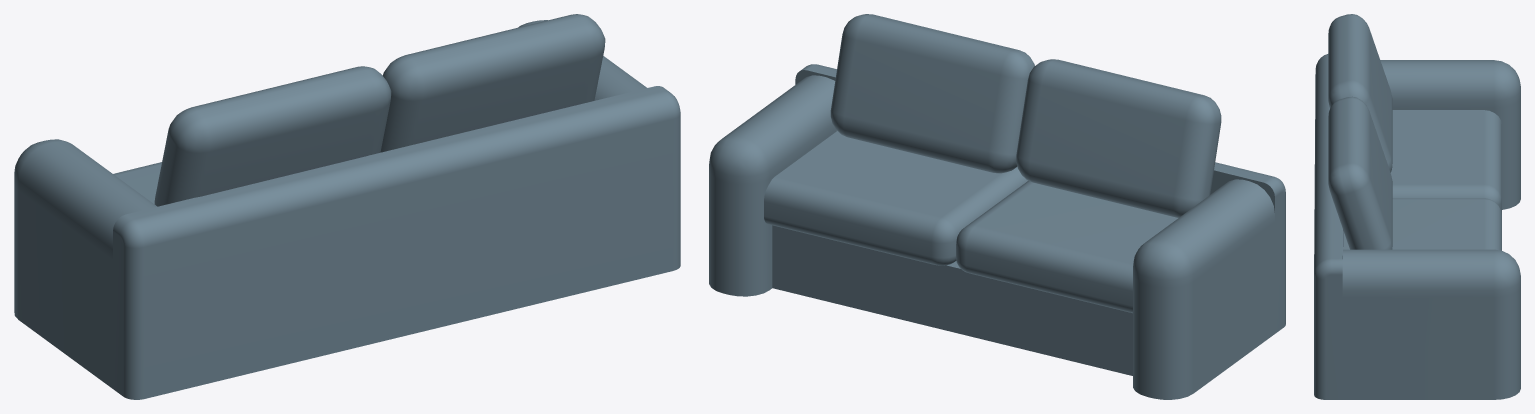
Rendered from Canape2_8.fbx.
The picture shows the model from 3 angles, left to right: view 1: azimuth 30°, elevation 25°; view 2: azimuth 150°, elevation 25°; view 3: azimuth 270°, elevation 25°; orthographic projection. The views are drawn at different scales.
Visible parts, largest first — view 1: pCube1068, pCube2538, pCube2535, pCube2534, pCube2533, pCube2523; view 2: pCube2538, pCube2535, pCube2534, pCube2539, pCube2522, pCube2523, pCube2533, pCube1068; view 3: pCube2533, pCube2523, pCube2538, pCube2534, pCube1068, pCube2522, pCube2535.
Boxes of the visible parts, x1,y1,x2,y2 form: pCube1068: (113,86,680,399); pCube2538: (14,139,157,388); pCube2535: (154,66,391,206); pCube2534: (380,14,605,152); pCube2533: (518,20,646,100); pCube2523: (113,162,161,203); pCube2538: (1133,179,1274,399); pCube2535: (1016,59,1221,217); pCube2534: (830,14,1034,173); pCube2539: (772,225,1132,375); pCube2522: (764,131,1027,265); pCube2523: (956,180,1178,313); pCube2533: (709,75,836,296); pCube1068: (795,64,1285,333); pCube2533: (1342,249,1520,399); pCube2523: (1390,110,1501,213); pCube2538: (1380,60,1520,209); pCube2534: (1328,96,1392,249); pCube1068: (1314,54,1343,399); pCube2522: (1343,198,1501,250); pCube2535: (1328,14,1392,172).
Bounding box in the file's own units: 167 × 73.88 × 68.22.
